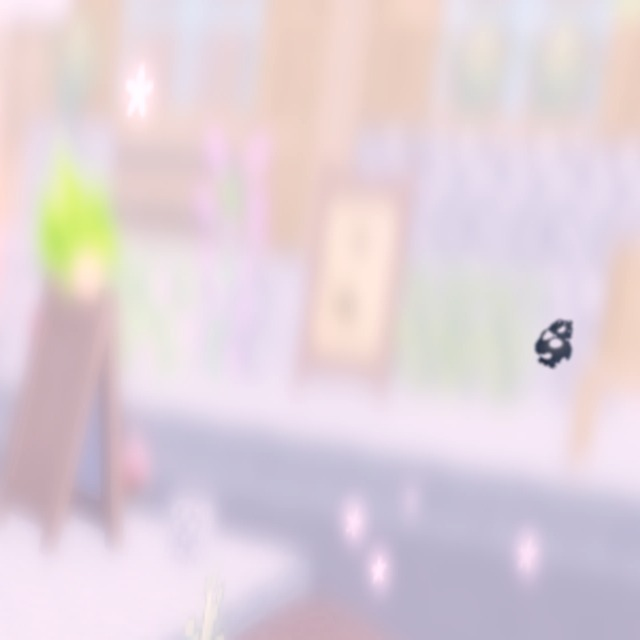urso_preto: (528, 308, 587, 374)
